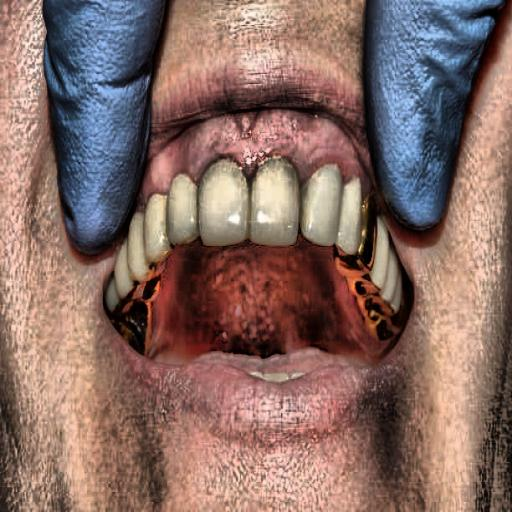Gingivitis: (148, 99, 378, 191)
